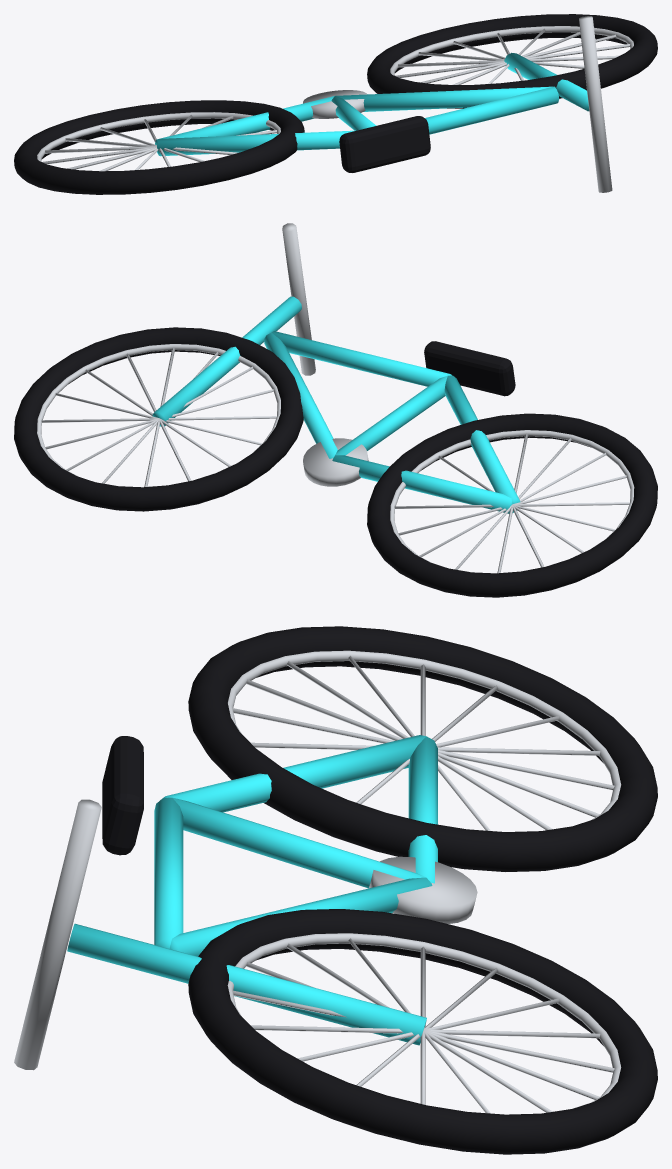
Rendered from Street_Bicycle.fbx.
The picture shows the model from 3 angles, top to bottom: view 1: azimuth 30°, elevation 25°; view 2: azimuth 150°, elevation 25°; view 3: azimuth 270°, elevation 25°; orthographic projection. The views are drawn at different scales.
Parts seen in each view (by area): view 1: Street_Bicycle; view 2: Street_Bicycle; view 3: Street_Bicycle.
Boxes of the visible parts, <box> form: Street_Bicycle: <box>14,14,657,194</box>; Street_Bicycle: <box>14,223,657,597</box>; Street_Bicycle: <box>14,626,657,1154</box>.
Size of the model in its own units: 1.72 by 0.4428 by 0.9634.
